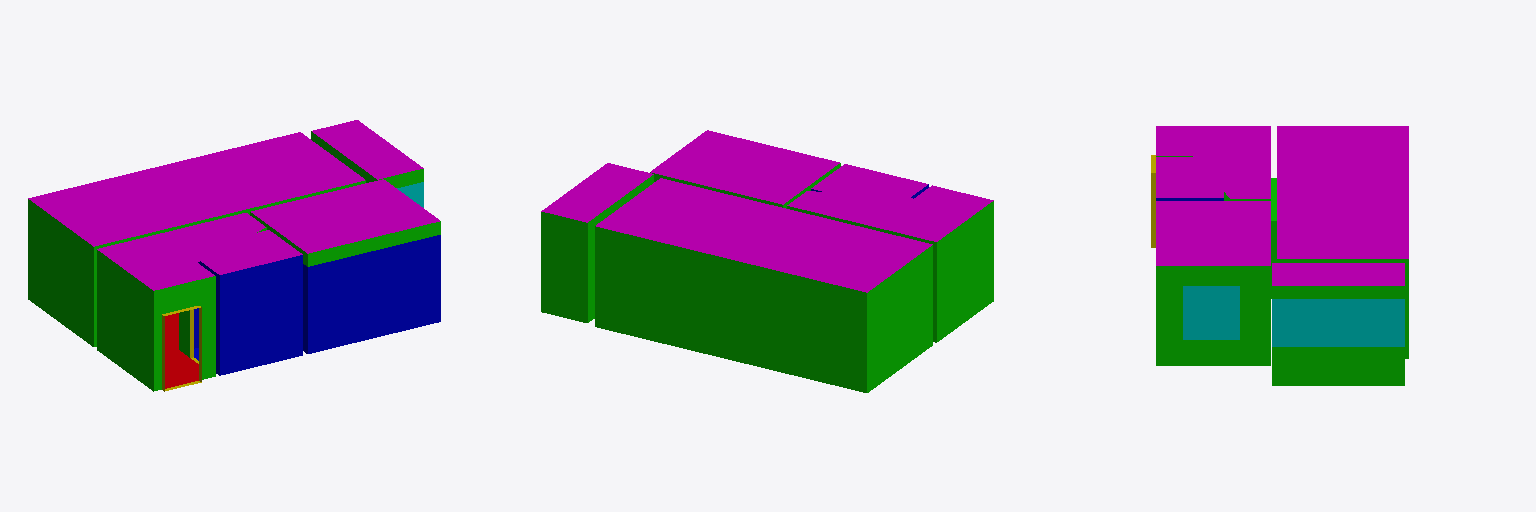
File: MainFlat.obj
3 views of the same model, side by side, from view 1: azimuth 30°, elevation 25°; view 2: azimuth 150°, elevation 25°; view 3: azimuth 270°, elevation 25° (orthographic).
Visible parts, largest first — view 1: Flat; view 2: Flat; view 3: Flat.
Part boxes in pixels (x1,y1,x2,y2): Flat: (28,120,440,391); Flat: (541,130,993,392); Flat: (1151,126,1408,385).
Bounding box in the file's own units: 12.2 × 3.58 × 8.3.